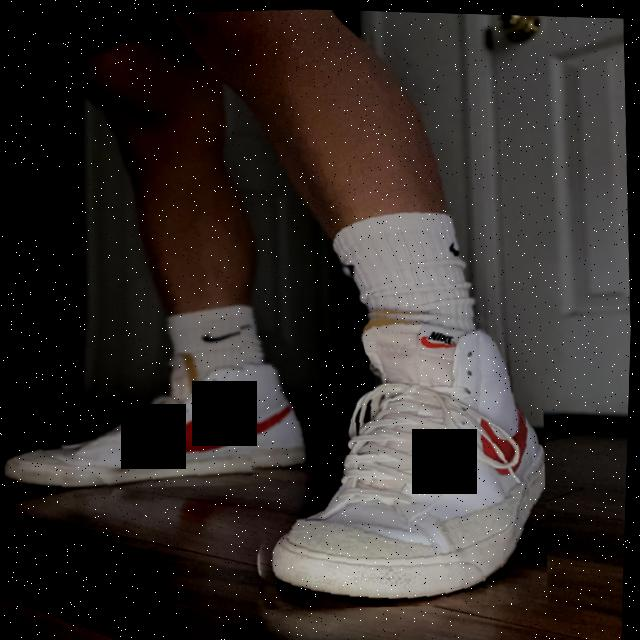shoe: (234, 292, 558, 615), (0, 308, 308, 498)
